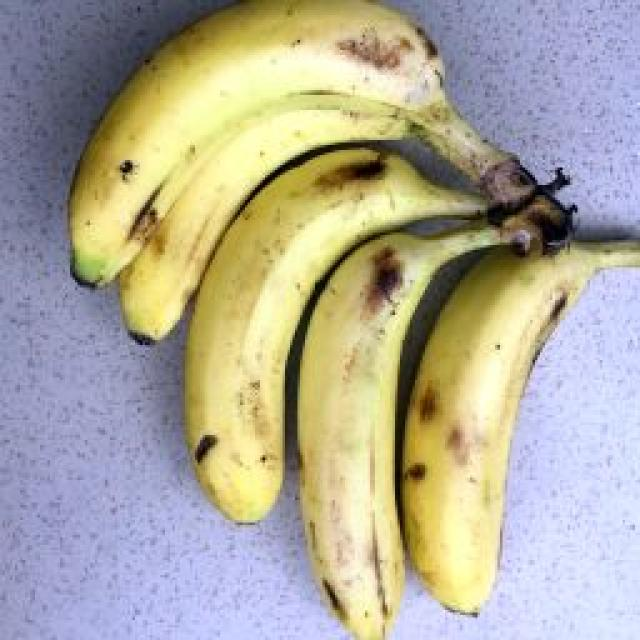banana: (15, 64, 508, 476)
